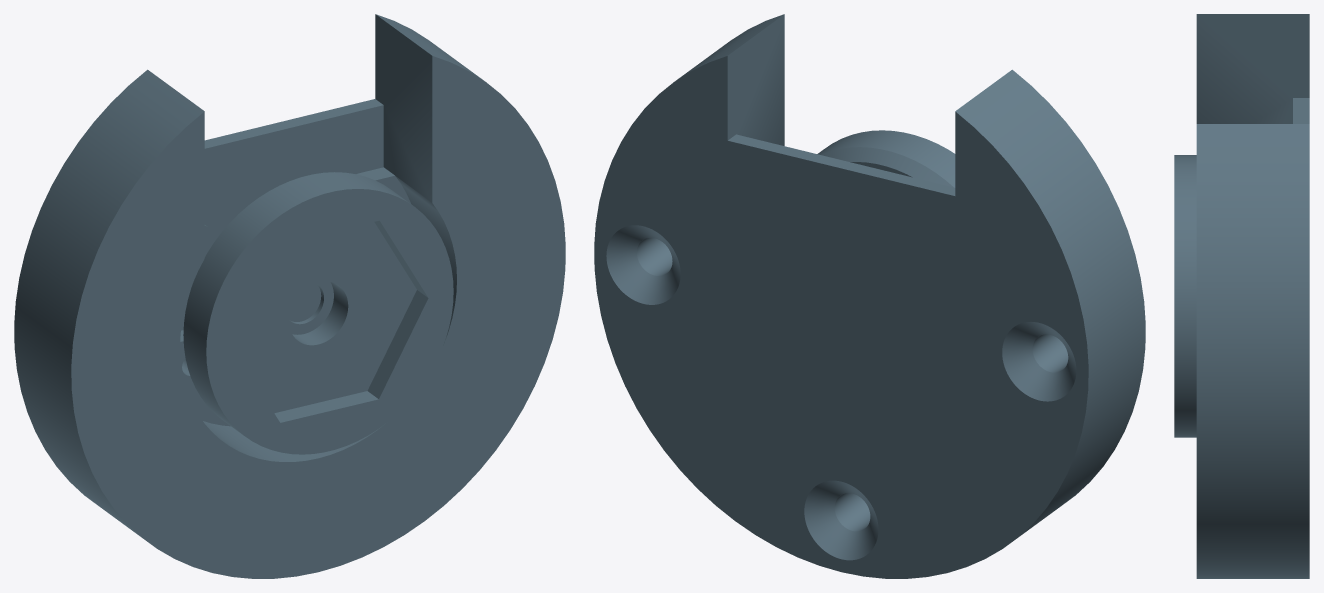
Rendered from encoder_LOD0.fbx.
3 renders of one model, left to right at view 1: azimuth 30°, elevation 25°; view 2: azimuth 150°, elevation 25°; view 3: azimuth 270°, elevation 25°, orthographic.
Visible parts, largest first — view 1: MM_opentorque_encoder_cover_312a817964, MM_opentorque_encoder_magnet_holder_2091064459; view 2: MM_opentorque_encoder_cover_312a817964, MM_opentorque_encoder_magnet_holder_2091064459; view 3: MM_opentorque_encoder_cover_312a817964, MM_opentorque_encoder_magnet_holder_2091064459.
Part boxes in pixels (x1,y1,x2,y2): MM_opentorque_encoder_cover_312a817964: (14,14,565,578); MM_opentorque_encoder_magnet_holder_2091064459: (183,172,453,454); MM_opentorque_encoder_cover_312a817964: (594,14,1145,578); MM_opentorque_encoder_magnet_holder_2091064459: (817,130,955,187); MM_opentorque_encoder_cover_312a817964: (1196,14,1309,578); MM_opentorque_encoder_magnet_holder_2091064459: (1174,155,1196,437).
Size of the model in its own units: 0.05 by 0.0472 by 0.012.
